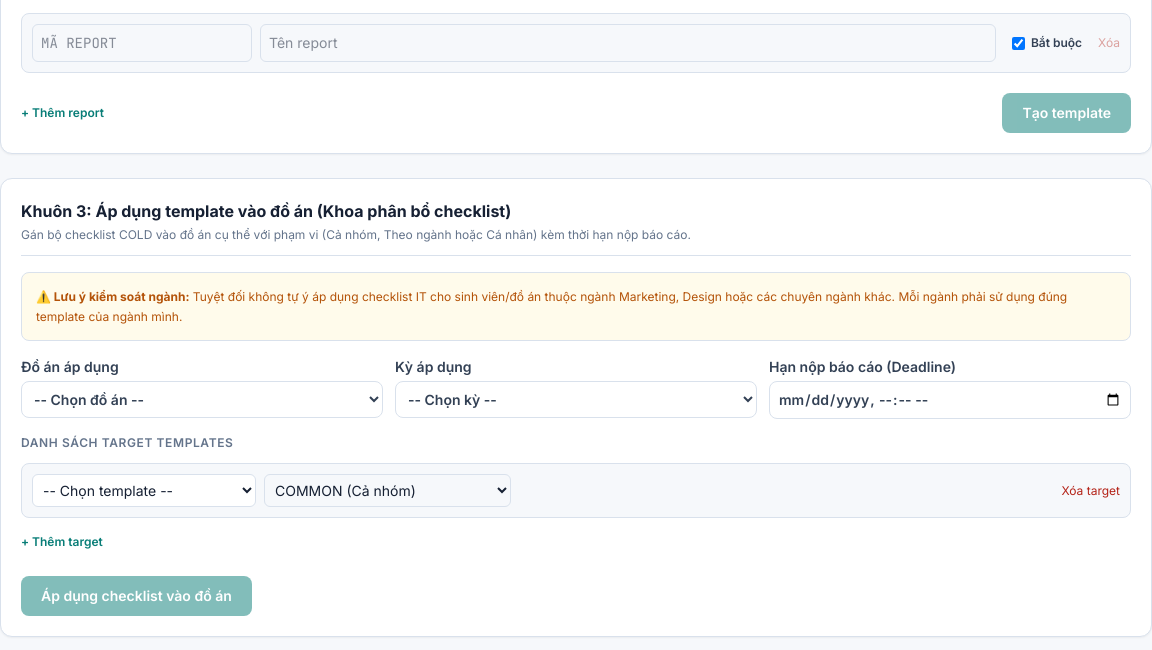
ColdTemplateManagementPage › allows applying template checklist to a project with scope and deadline
The image size is (1152, 650).
(page scrolled)
Select "Đồ án demo (P1)" in the dropdown labelled "Đồ án áp dụng": coordinates (202, 400) [21, 381, 383, 418]
Select "Đánh giá cuối kỳ (EVAL)" in the dropdown labelled "Kỳ áp dụng": coordinates (576, 400) [395, 381, 757, 418]
In the field labelled "Hạn nộp báo cáo (Deadline)": coordinates (950, 400) [769, 381, 1131, 419], type "2026-12-31T23:59"
(page scrolled)
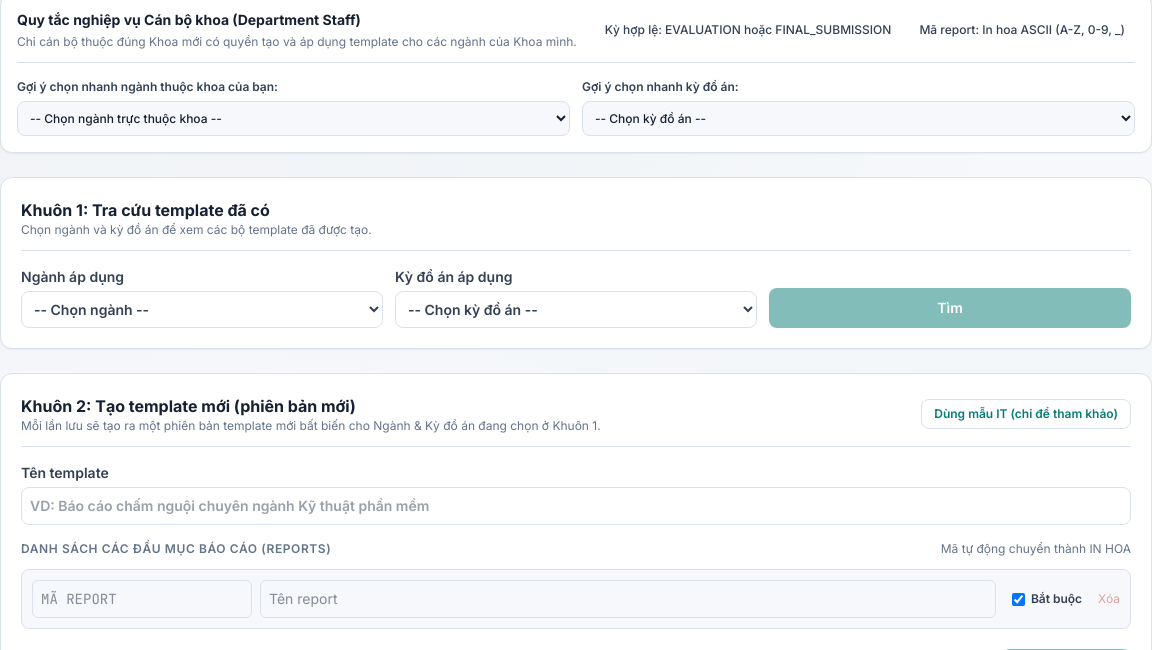
Select "Marketing (MKT)" in the dropdown labelled "Ngành áp dụng": coordinates (202, 310) [21, 291, 383, 328]
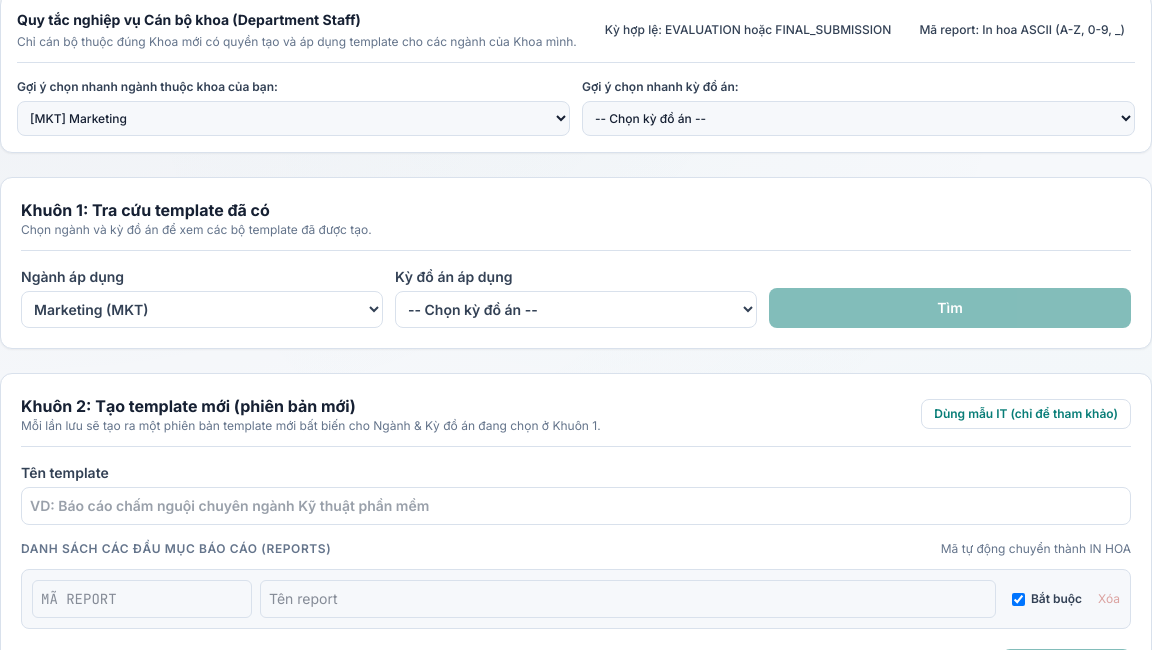
Select "Đánh giá cuối kỳ (EVAL)" in the dropdown labelled "Kỳ đồ án áp dụng": coordinates (576, 310) [395, 291, 757, 328]
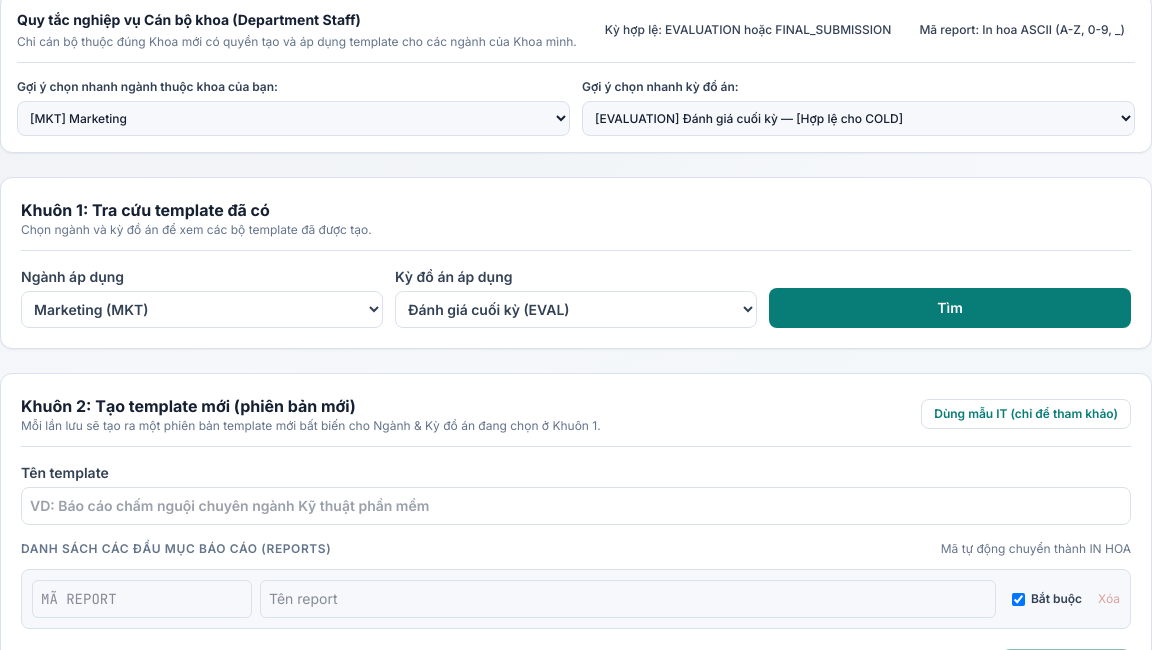
Click the button "Tìm": coordinates (950, 308) [769, 288, 1131, 328]
(page scrolled)
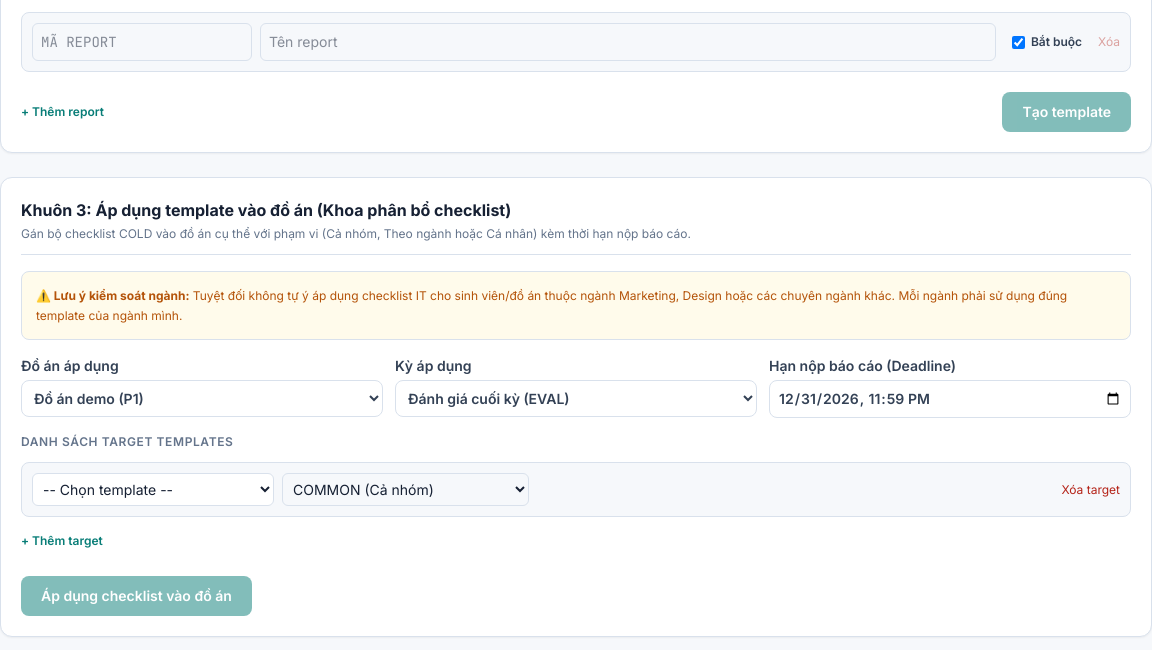
Select "Marketing research reports (v1)" in the 3rd dropdown: coordinates (153, 490) [32, 474, 274, 506]
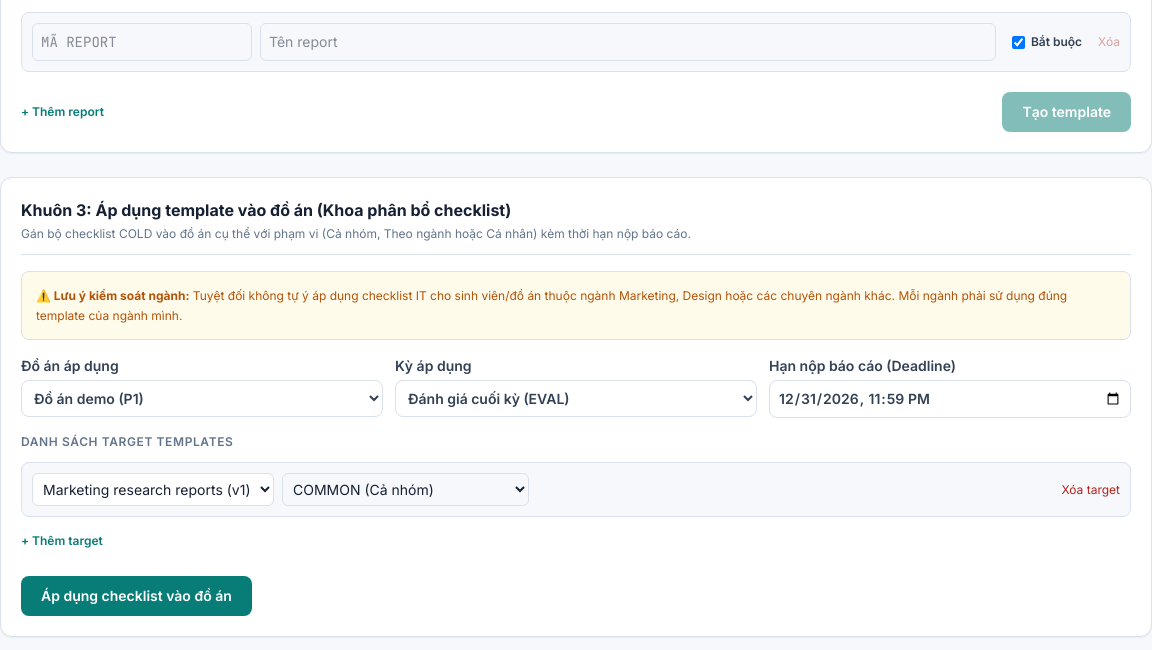
Now the button "Áp dụng checklist vào đồ án" is enabled
Click the button "Áp dụng checklist vào đồ án": coordinates (136, 596) [21, 576, 252, 616]
(page scrolled)
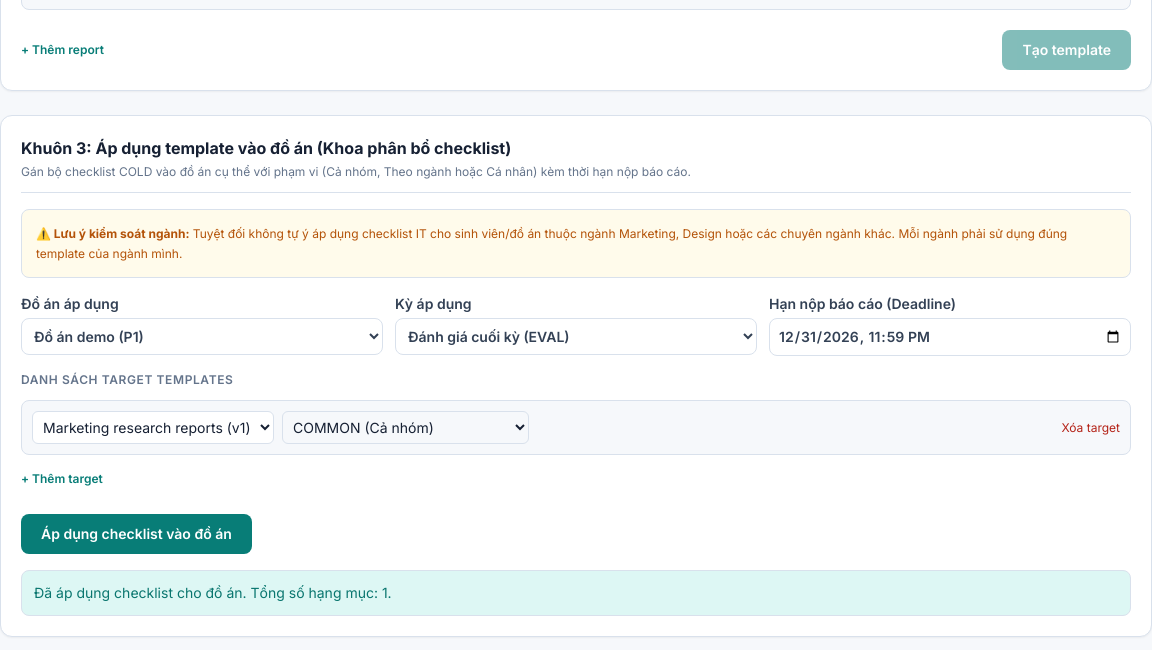
Now the text "Đã áp dụng checklist cho đồ án. Tổng số hạng mục: 1." is shown, box [21, 570, 1131, 616]
